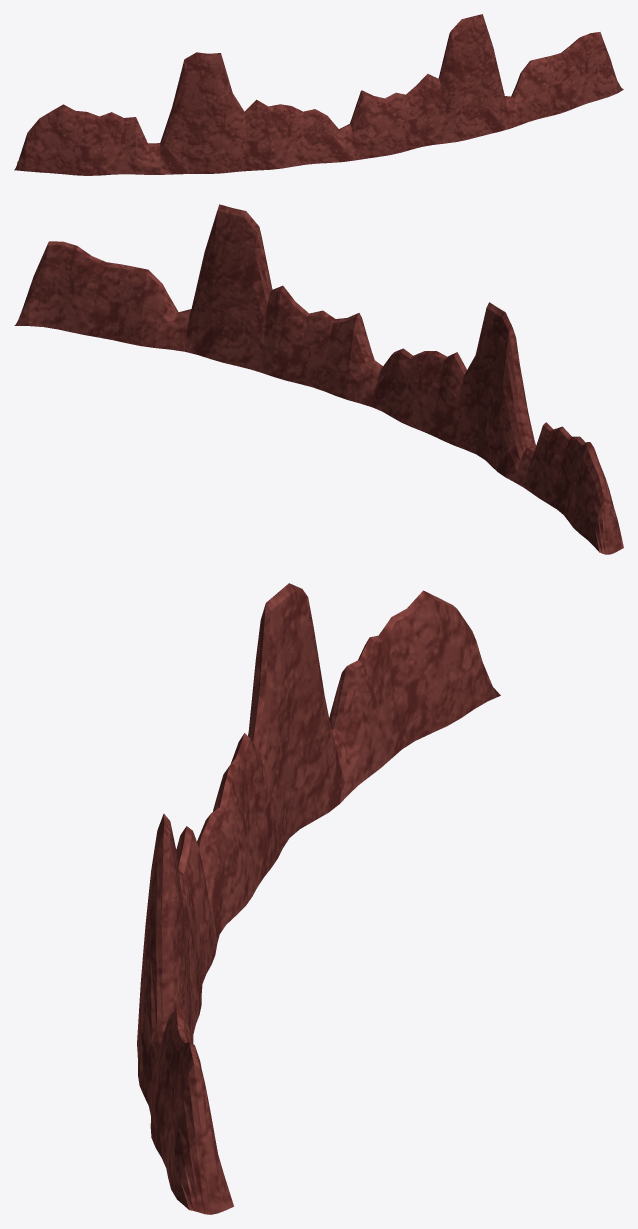
File: map_base_cover_s2.glb
The picture shows the model from 3 angles, top to bottom: view 1: azimuth 30°, elevation 25°; view 2: azimuth 150°, elevation 25°; view 3: azimuth 270°, elevation 25°; orthographic projection. The views are drawn at different scales.
Visible parts, largest first — view 1: MapBaseCoverS2Rock; view 2: MapBaseCoverS2Rock; view 3: MapBaseCoverS2Rock.
Part boxes in pixels (x1,y1,x2,y2): MapBaseCoverS2Rock: (14,14,623,175); MapBaseCoverS2Rock: (14,204,623,554); MapBaseCoverS2Rock: (137,583,500,1214).
Size of what is drawn, in the model's own units: 46.24 by 9.88 by 13.5.
2 materials, 2 textured.
